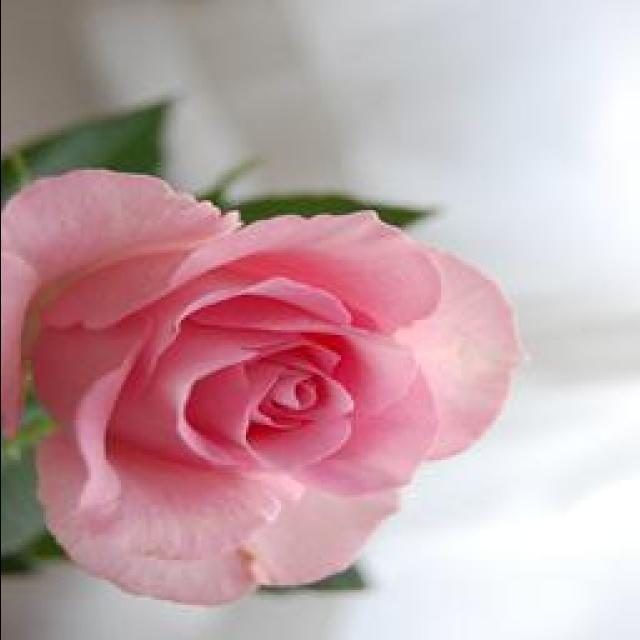rose: (0, 114, 517, 610)
